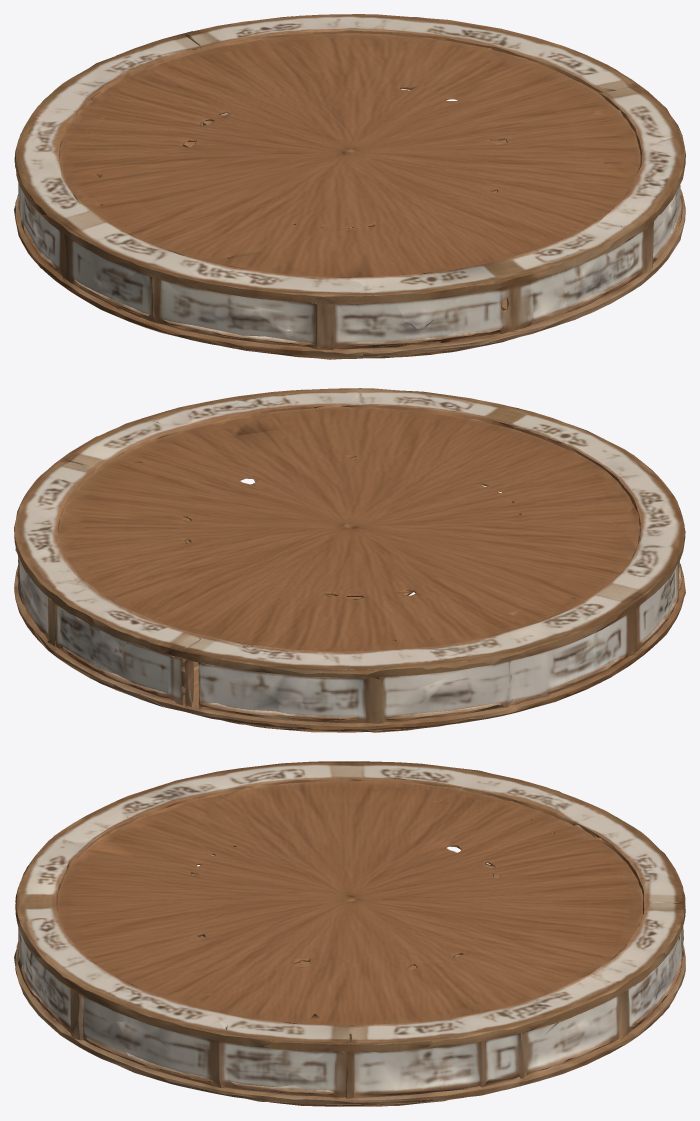
Rendered from unified--carousel-deck.glb.
3 views of the same model, one above another, from view 1: azimuth 30°, elevation 25°; view 2: azimuth 150°, elevation 25°; view 3: azimuth 270°, elevation 25° (orthographic).
Visible parts, largest first — view 1: carousel-deck-1; view 2: carousel-deck-1; view 3: carousel-deck-1.
Boxes of the visible parts, box(x1,y1,x2,y2) form: carousel-deck-1: box(14, 14, 685, 359); carousel-deck-1: box(14, 388, 685, 732); carousel-deck-1: box(14, 761, 685, 1106).
Size of the model in its own units: 1.2 by 0.171 by 1.2.
1 material, 1 textured.
